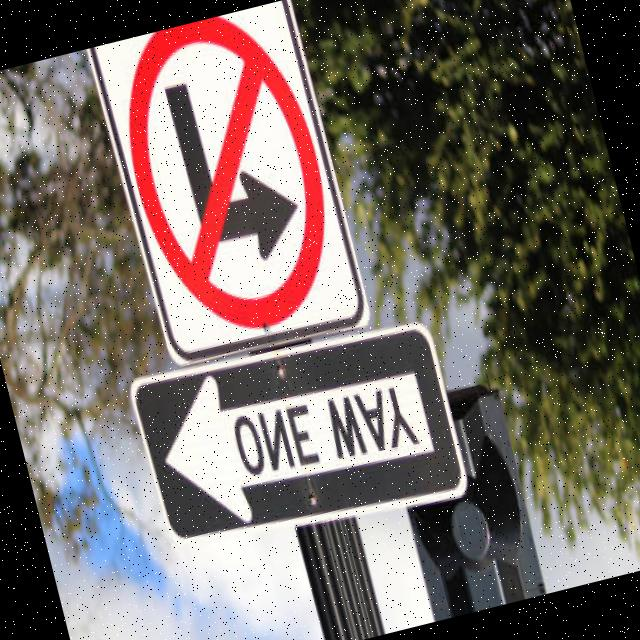do_not_turn_right: (101, 1, 352, 349)
